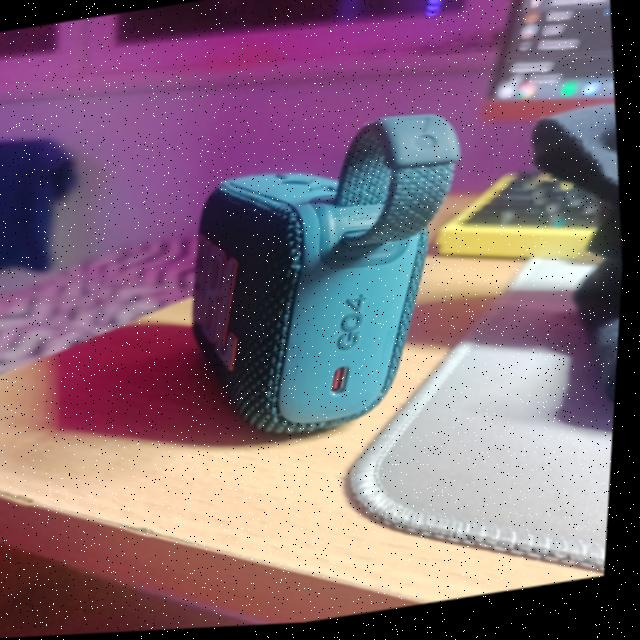column JBL: (197, 119, 462, 436)
